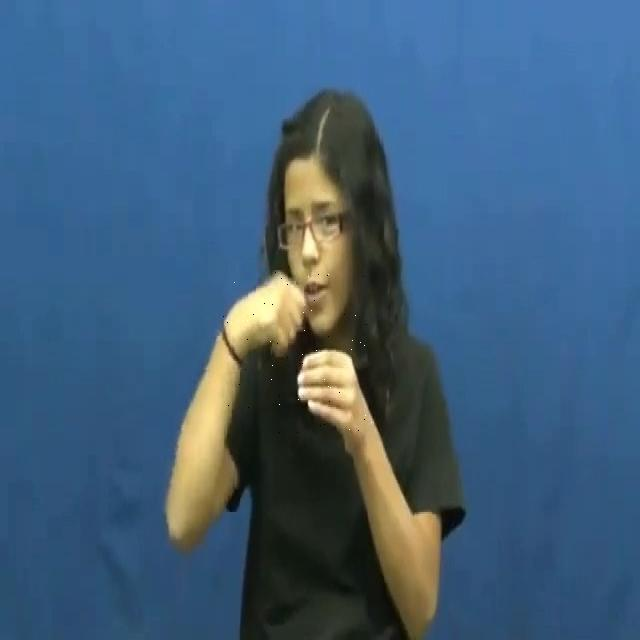yoghurt: (216, 272, 372, 434)
